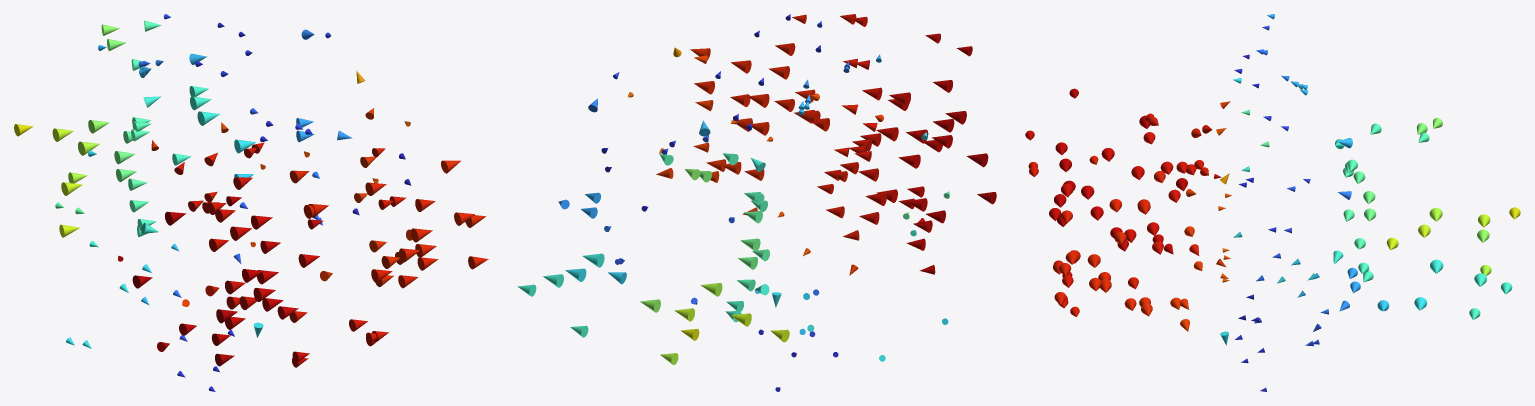
The model's file is LineasCorrienteH2-O2_mh2-2.70_V-0.9.glb.
The picture shows the model from 3 angles, left to right: view 1: azimuth 30°, elevation 25°; view 2: azimuth 150°, elevation 25°; view 3: azimuth 270°, elevation 25°; orthographic projection. The views are drawn at different scales.
Size of the model in its own units: 0.000914 by 0.000958 by 0.00124.
Materials: 2 (2 with a texture image).
